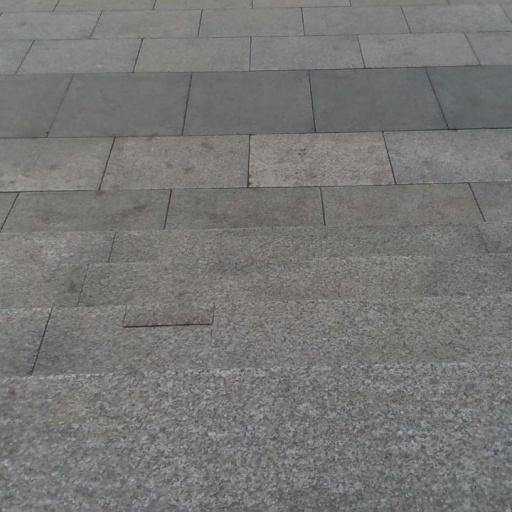stairs: (0, 223, 511, 510)
